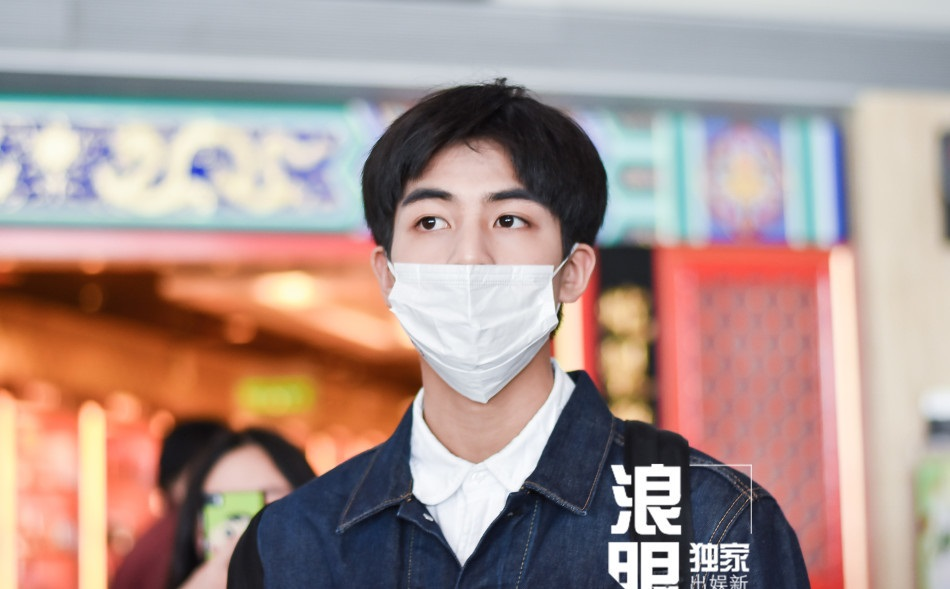face_mask: (389, 145, 566, 361)
